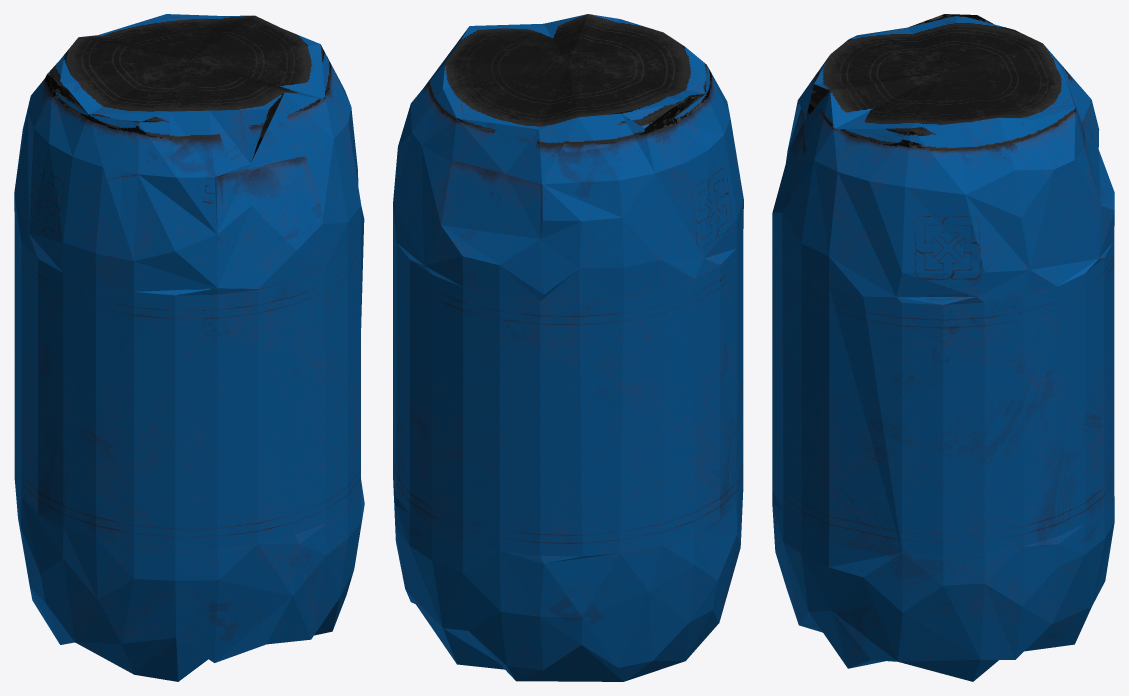
The model's file is barrel_lowres.gltf.
3 renders of one model, left to right at view 1: azimuth 30°, elevation 25°; view 2: azimuth 150°, elevation 25°; view 3: azimuth 270°, elevation 25°, orthographic.
Parts seen in each view (by area): view 1: barrel_inner; view 2: barrel_inner; view 3: barrel_inner.
Boxes of the visible parts, bbox=[...] form: barrel_inner: bbox=[14, 14, 364, 681]; barrel_inner: bbox=[393, 14, 743, 681]; barrel_inner: bbox=[772, 14, 1114, 681].
Size of the model in its own units: 0.4829 by 0.8583 by 0.4796.
1 material, 1 textured.
